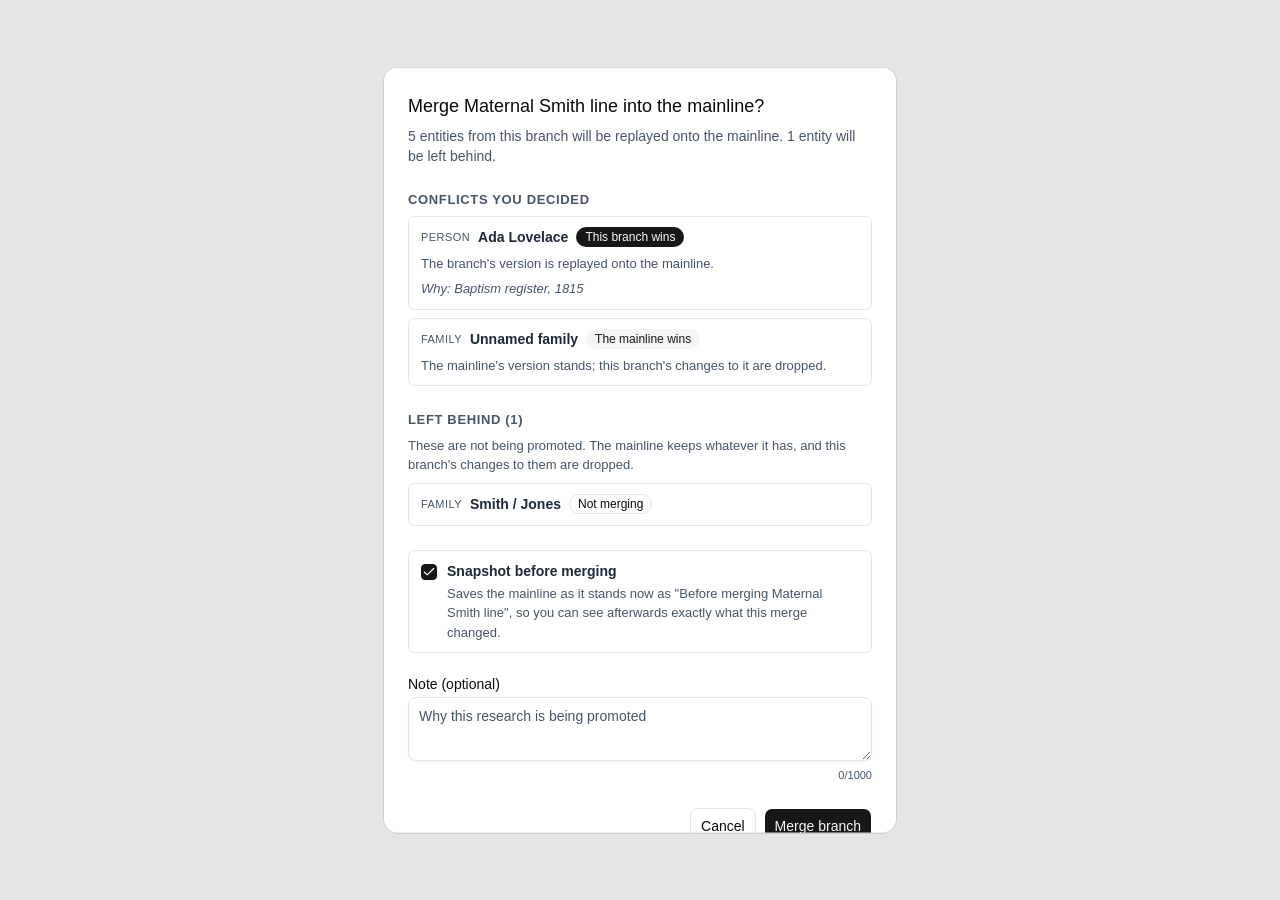
Scenario: MergeConfirmDialog › confirming › keeps the dialog open and the action disabled while the request is in flight
The width and height of the screenshot is (1280, 900).
Type "Confirmed by the 1881 census" into the text box labelled "Note (optional)" at [640, 728], box [408,696,872,760]
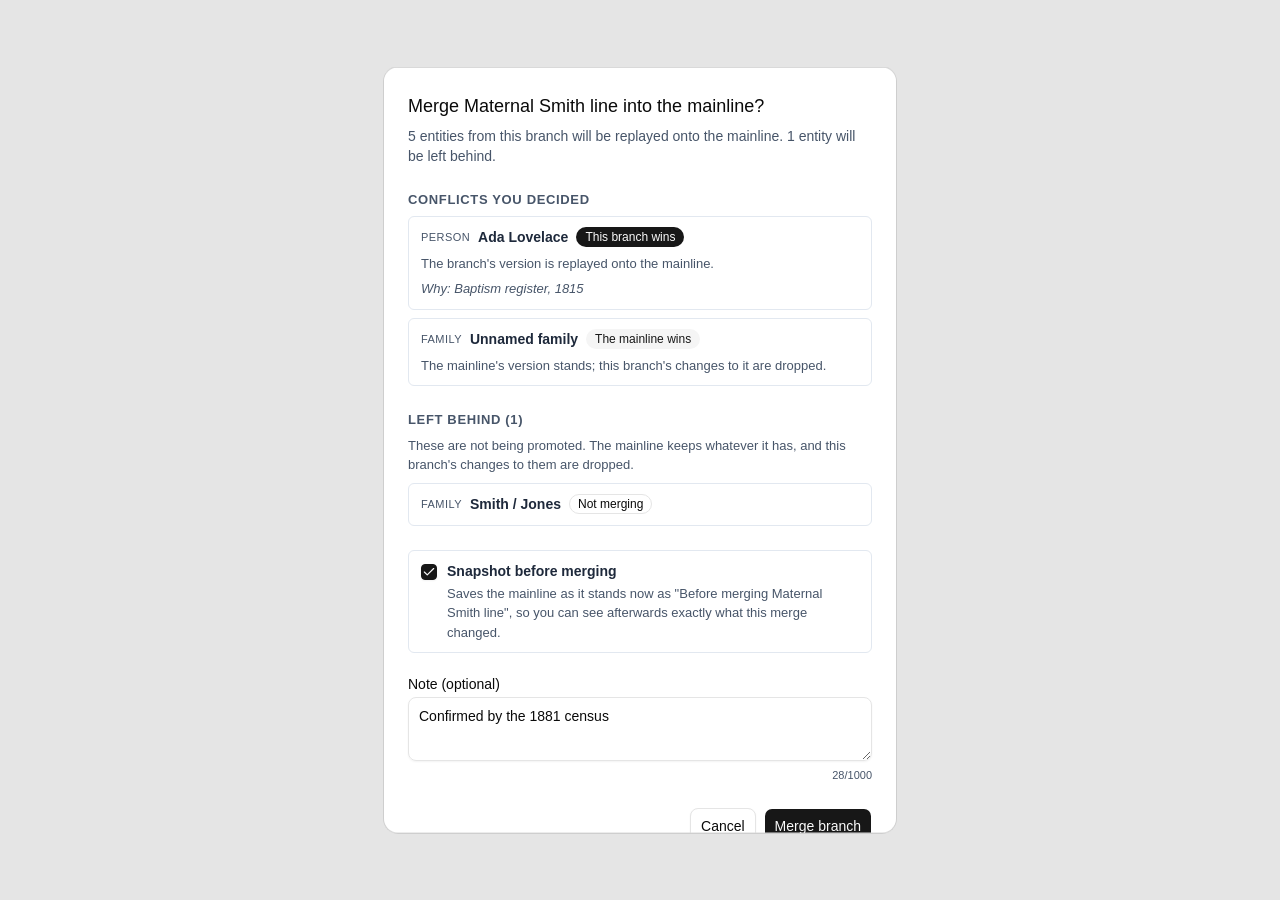
Click the button "Merge branch" at [818, 825], box [764,807,872,843]
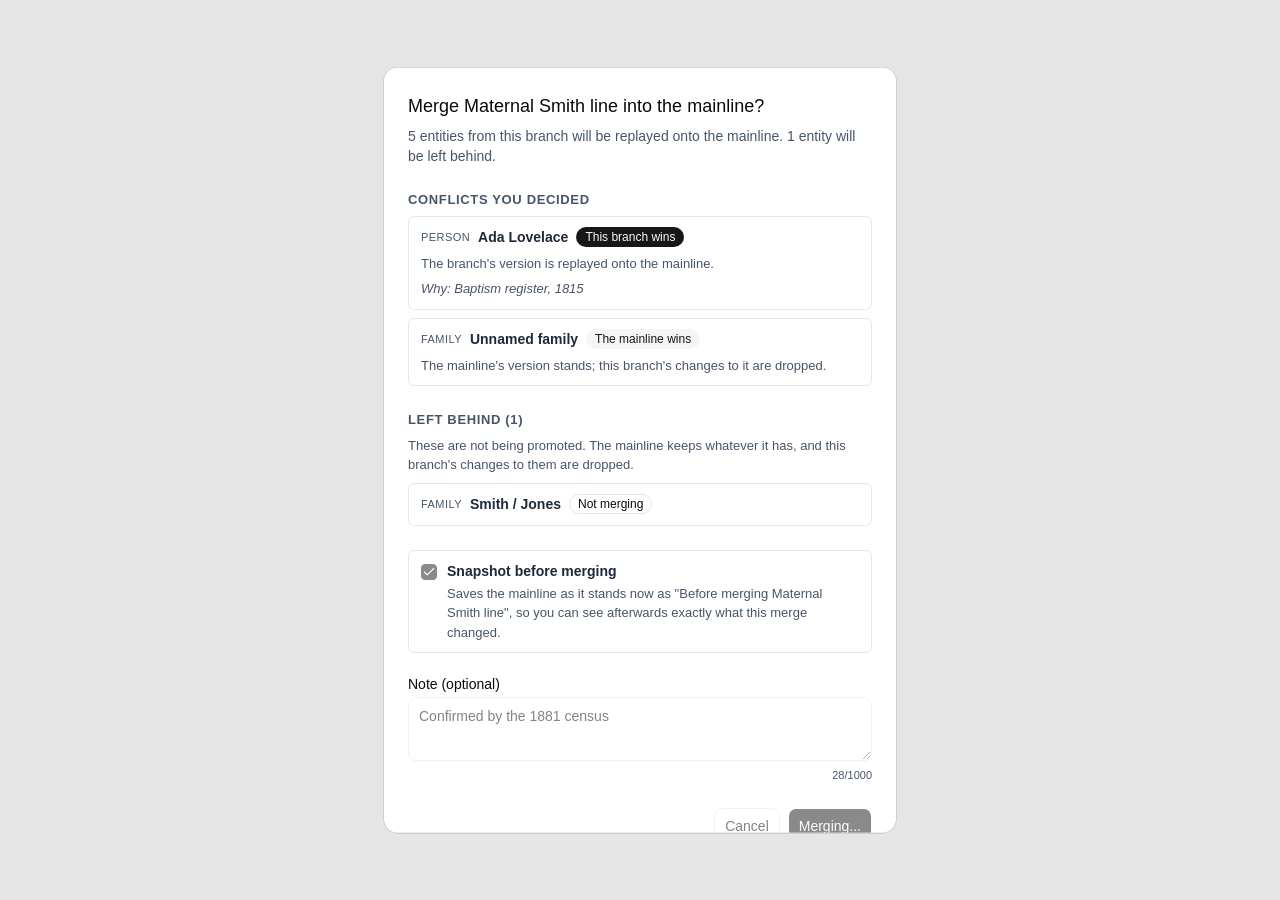
Check: the button "Merging..." is shown, box [788,807,872,832]
Check: the button "Merging..." is disabled, box [788,807,872,832]
Click the button "Cancel" at [747, 825], box [714,807,780,843]
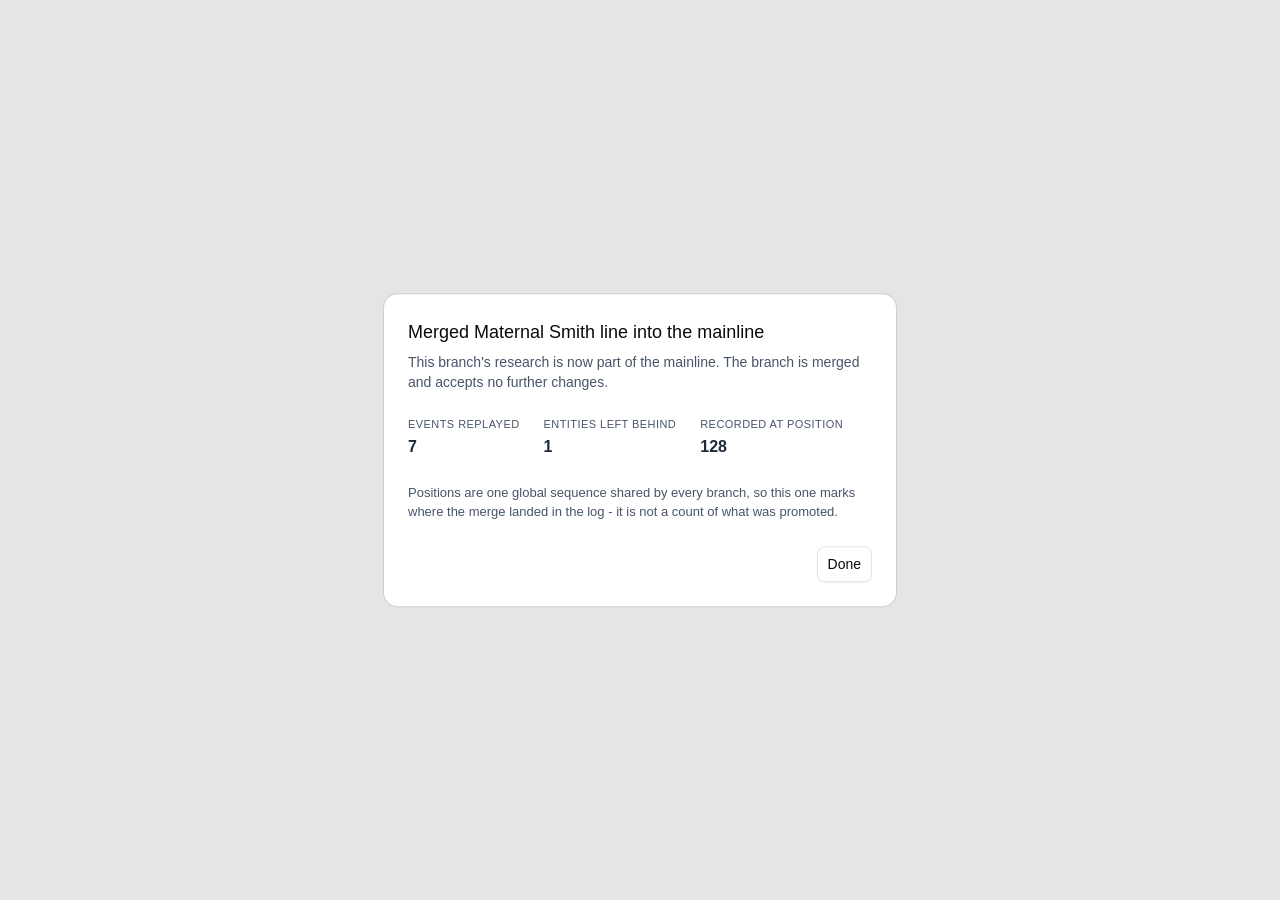
Check: the heading "Merged Maternal Smith line into the mainline" is shown, box [408,318,764,346]
